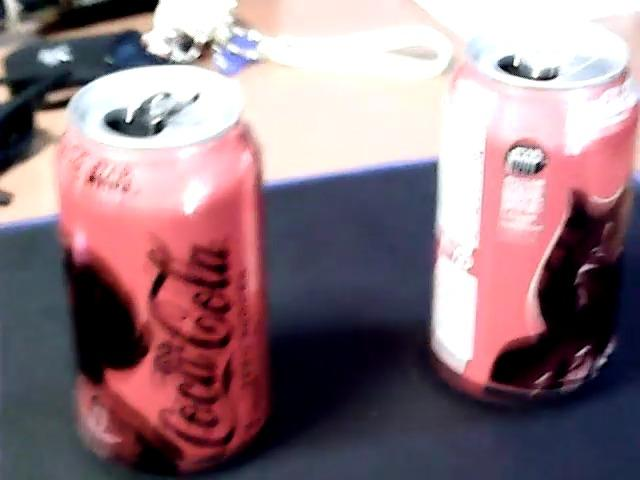coke: (59, 117, 270, 475), (433, 47, 634, 402)
